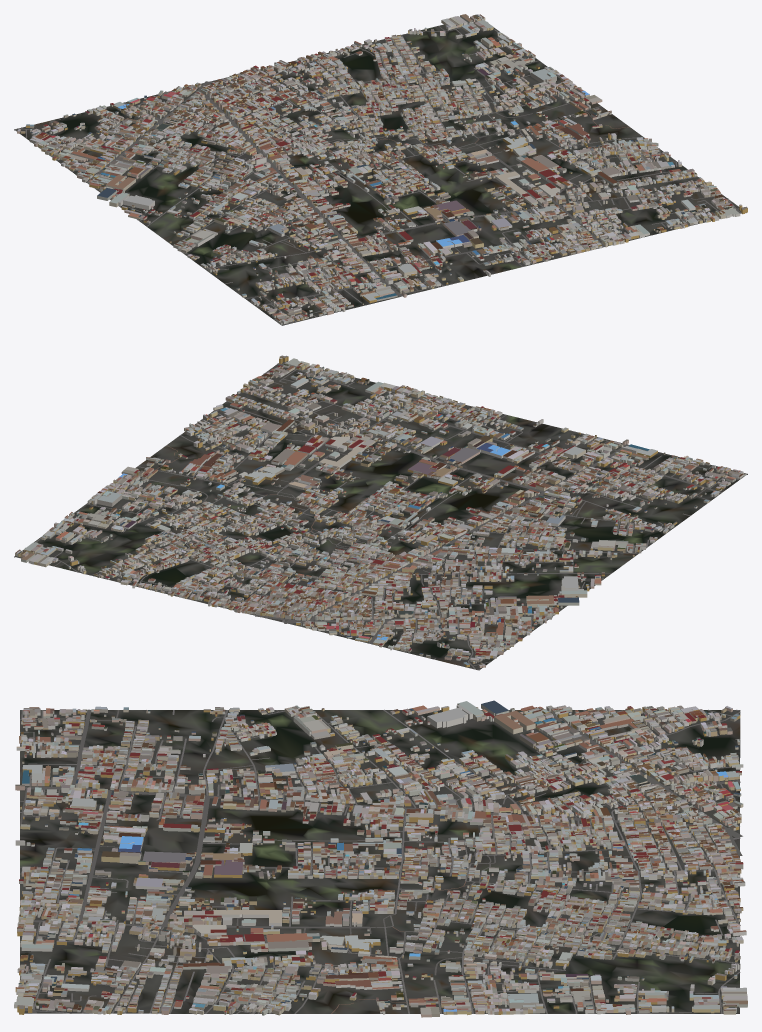
The picture shows the model from 3 angles, top to bottom: view 1: azimuth 30°, elevation 25°; view 2: azimuth 150°, elevation 25°; view 3: azimuth 270°, elevation 25°; orthographic projection. The views are drawn at different scales.
Parts seen in each view (by area): view 1: buildings, ground, roads; view 2: buildings, ground, roads; view 3: buildings, ground, roads.
Part boxes in pixels (<box>): buildings: <box>17,14,747,324</box>; ground: <box>14,22,746,325</box>; roads: <box>15,25,741,325</box>; buildings: <box>15,355,746,667</box>; ground: <box>14,362,747,670</box>; roads: <box>28,361,746,670</box>; buildings: <box>14,700,747,1017</box>; ground: <box>20,710,740,1013</box>; roads: <box>20,709,742,1013</box>.
Bounding box in the file's own units: 1441 × 19.6 × 1428.
